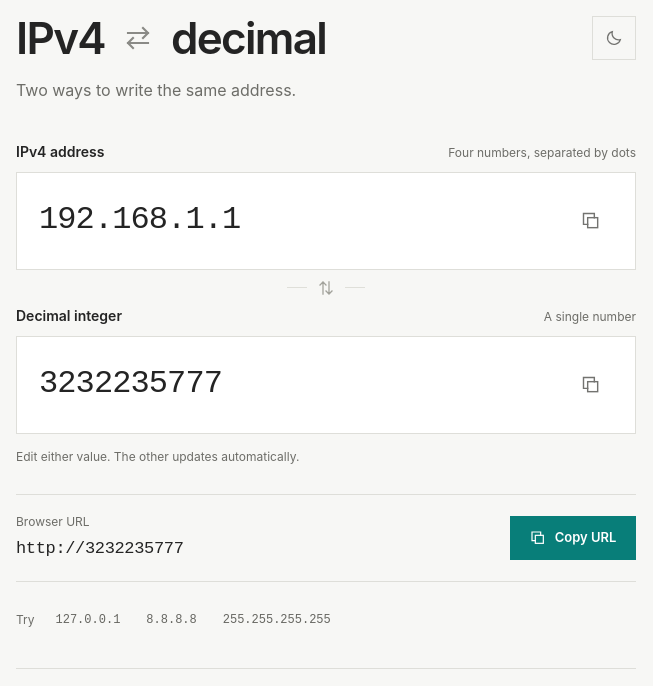
Test: loads example addresses
Click the button "127.0.0.1".
click(88, 620)  # box 46,598 -> 129,642
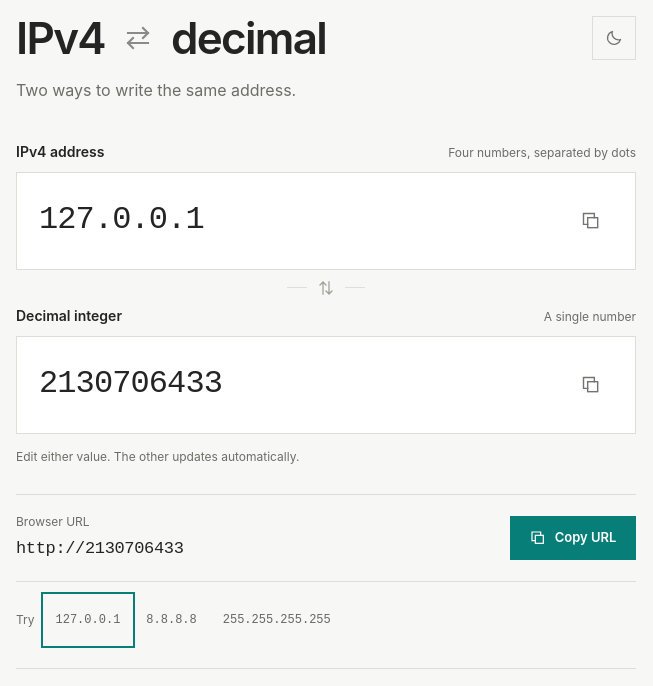
expect the field labelled "IPv4 address" holds "127.0.0.1": met, box 39,198 -> 553,243
expect the field labelled "Decimal integer" holds "2130706433": met, box 39,362 -> 553,407
